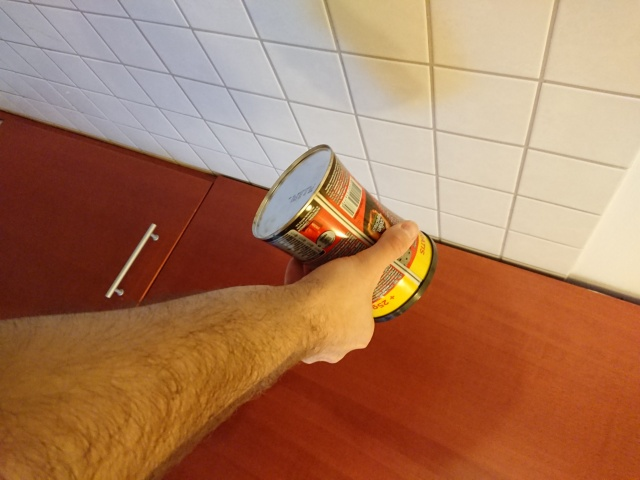Nescafe Classic 225g: (248, 140, 442, 327)
